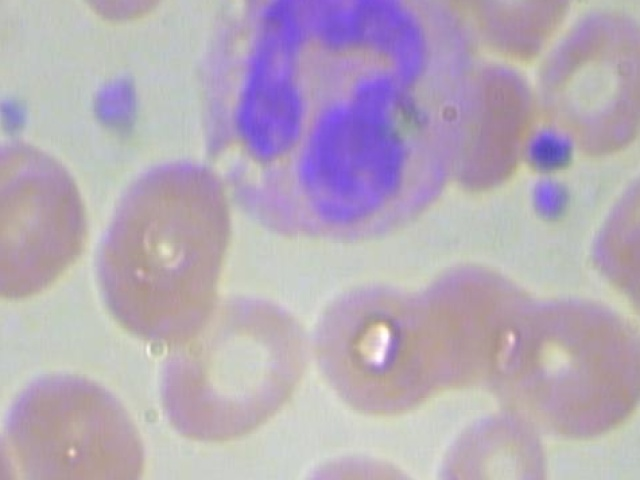Platelets: (79, 69, 155, 148), (523, 168, 580, 238), (524, 119, 577, 173), (0, 79, 33, 148)
RBC: (152, 277, 314, 460), (85, 152, 247, 334), (488, 292, 640, 443), (310, 276, 453, 419), (521, 0, 640, 166), (0, 365, 149, 480), (0, 158, 93, 305), (427, 398, 554, 480), (434, 0, 577, 66), (296, 434, 440, 480), (54, 0, 205, 30), (0, 391, 23, 480)
WBC: (195, 0, 483, 249)
